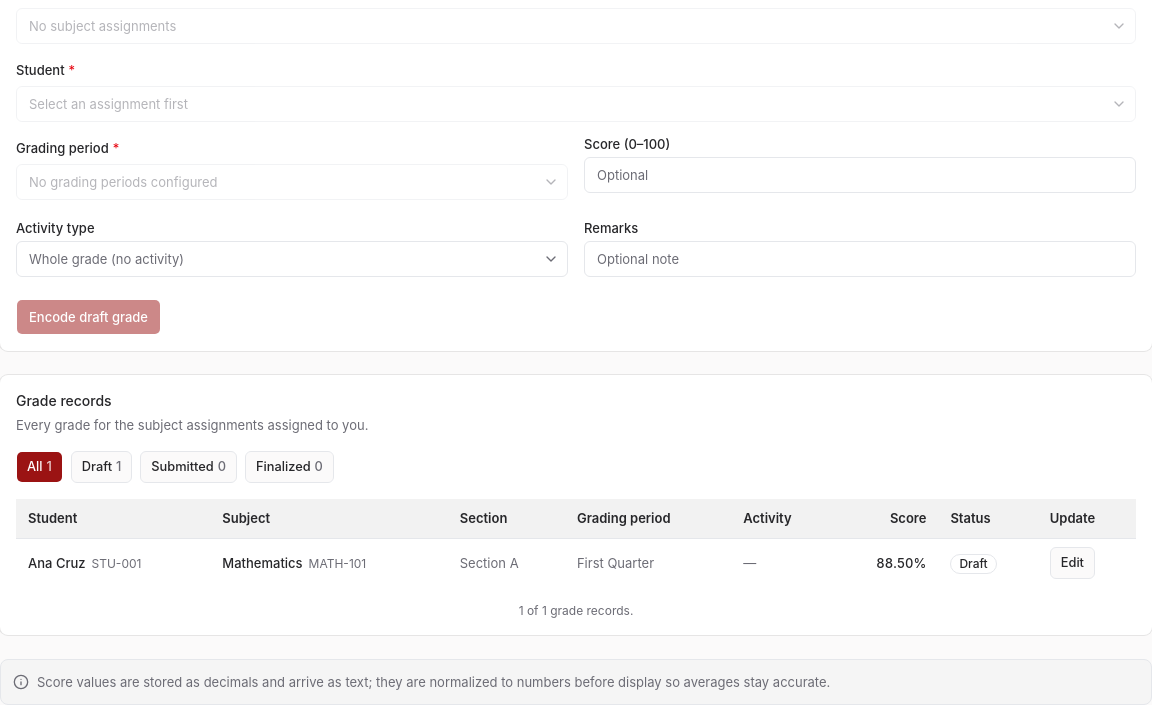
Test: AcademicsPage (faculty grade update) › offers no lifecycle control in the update form
The width and height of the screenshot is (1152, 705).
(page scrolled)
Expected: the text "MATH-101" is shown, [309,556,366,571]
Click the button "Edit".
click(1072, 563)  # box [1050,547,1095,579]
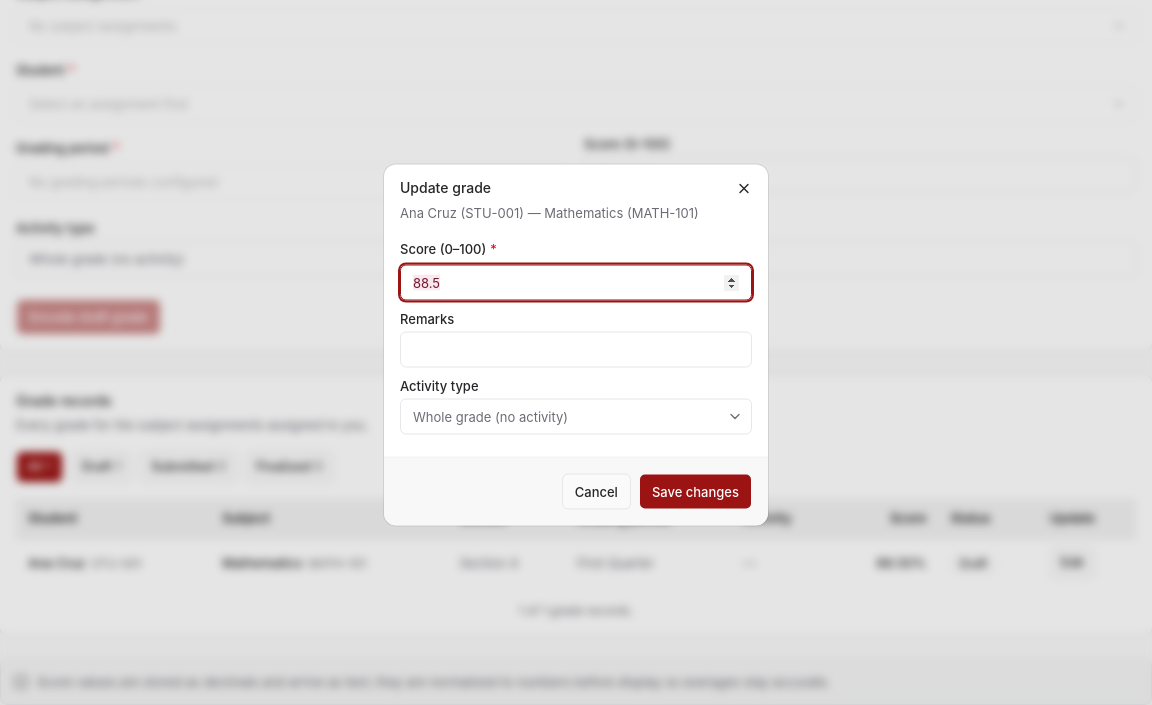
Expected: the number field labelled "Score (0–100)" is shown, [400,264,752,300]
